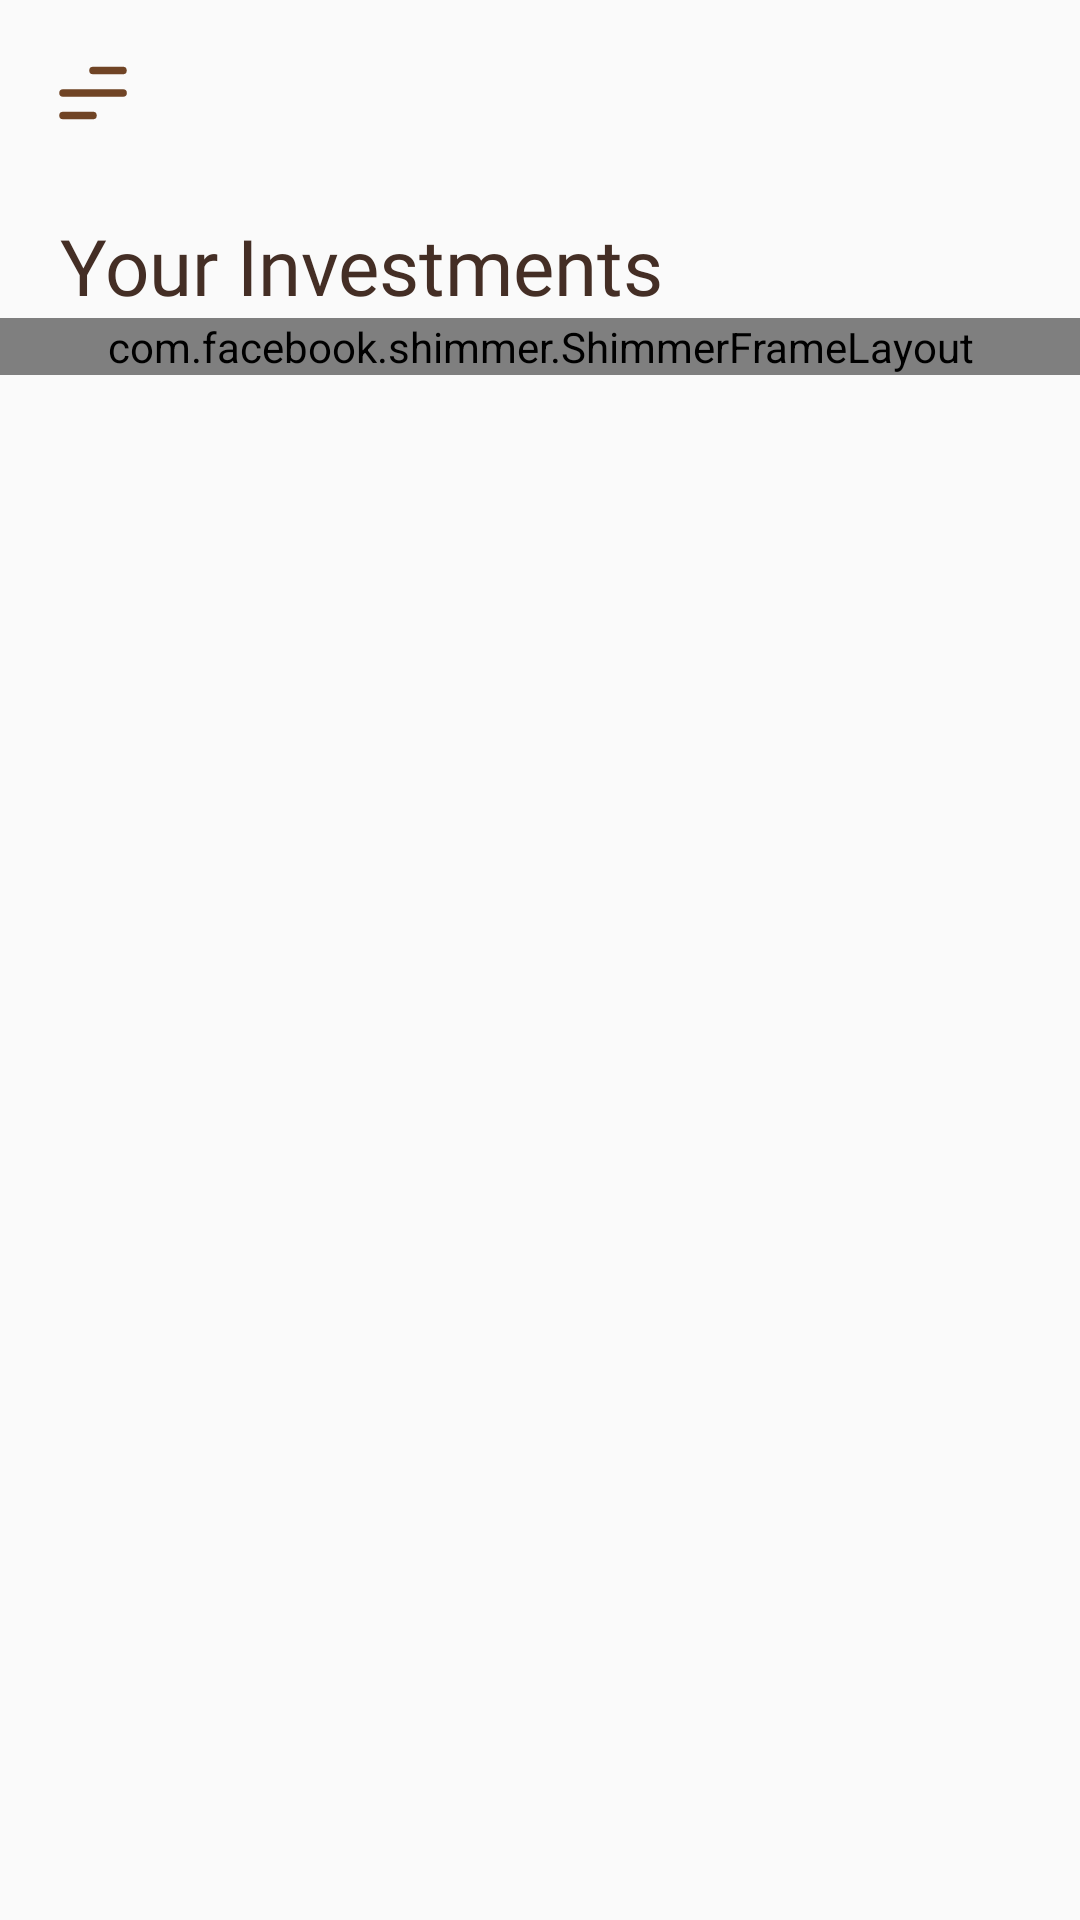

Point at icon controls on the screen. Image size 1080*1920, points as (x=x, y=y).
menu: (x=93, y=93)
